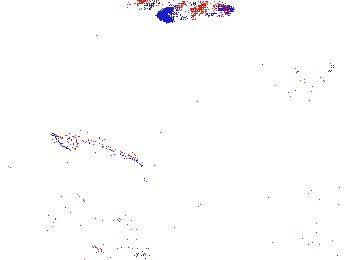X-ray fish: (99, 207, 150, 258)
glassfish: (49, 128, 159, 189)
red belly glassfish: (291, 61, 336, 82)
redtail glassfish: (139, 1, 234, 20), (269, 75, 333, 99), (160, 1, 210, 21)
